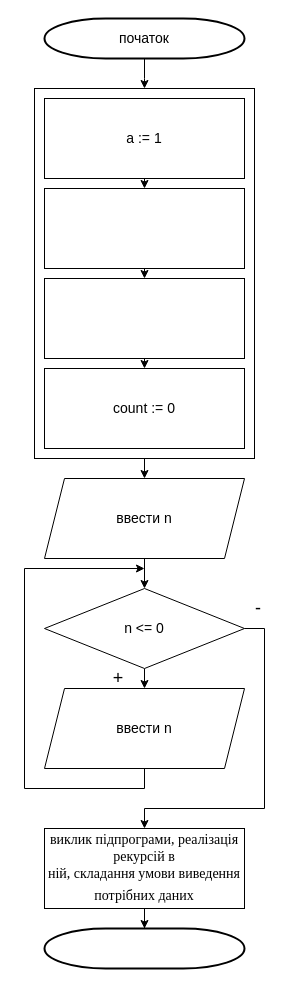
The diagram is 296 pixels wide and 986 high, and some of its shapes have lost their labels. The shapes that lost their labels are listed below. From the top down, each one's centre as x and y in pixels, then its label:
At [144,228]: "b := 1".
At [144,318]: "c := 1".
At [144,948]: "кінець".
